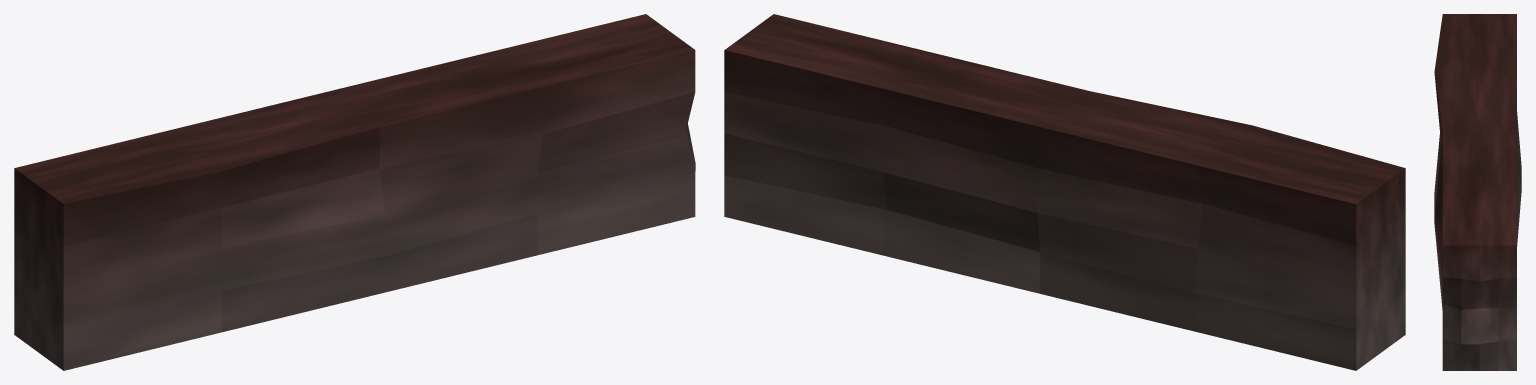
The model's file is GIMM375CaveHall2.fbx.
The picture shows the model from 3 angles, left to right: view 1: azimuth 30°, elevation 25°; view 2: azimuth 150°, elevation 25°; view 3: azimuth 270°, elevation 25°; orthographic projection. The views are drawn at different scales.
Visible parts, largest first — view 1: Cube.004; view 2: Cube.004; view 3: Cube.004.
Part boxes in pixels (bbox=[...]): Cube.004: bbox=[14, 14, 695, 370]; Cube.004: bbox=[724, 14, 1405, 370]; Cube.004: bbox=[1434, 14, 1521, 370].
Size of the model in its own units: 5692 by 1408 by 887.
Materials: 1 (1 with a texture image).
